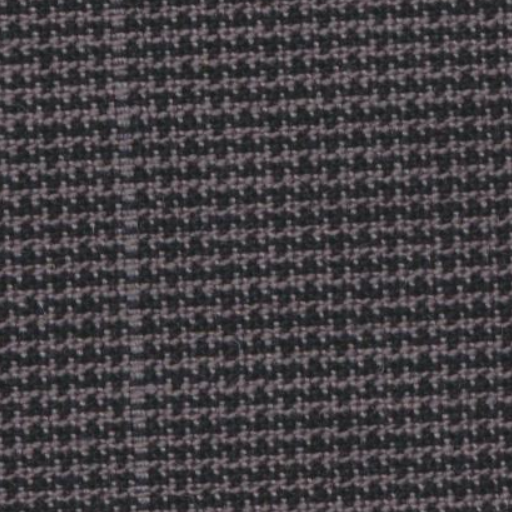TuoSha: (80, 8, 181, 502)
